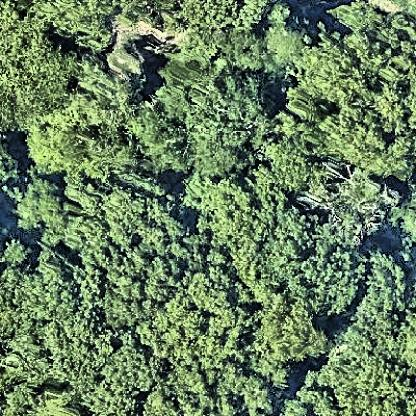tree-top: (66, 180, 189, 319), (131, 63, 276, 174), (311, 29, 416, 173), (191, 176, 298, 295), (0, 264, 98, 385), (34, 87, 141, 179), (327, 340, 410, 414), (246, 300, 328, 373), (4, 32, 72, 119), (288, 241, 362, 320), (176, 357, 275, 416), (354, 245, 416, 337), (331, 176, 396, 247), (43, 0, 121, 51), (13, 172, 71, 237), (101, 339, 166, 396), (204, 300, 254, 350), (288, 369, 337, 416), (182, 0, 266, 27), (25, 384, 84, 416), (1, 132, 25, 200), (395, 178, 416, 250)
